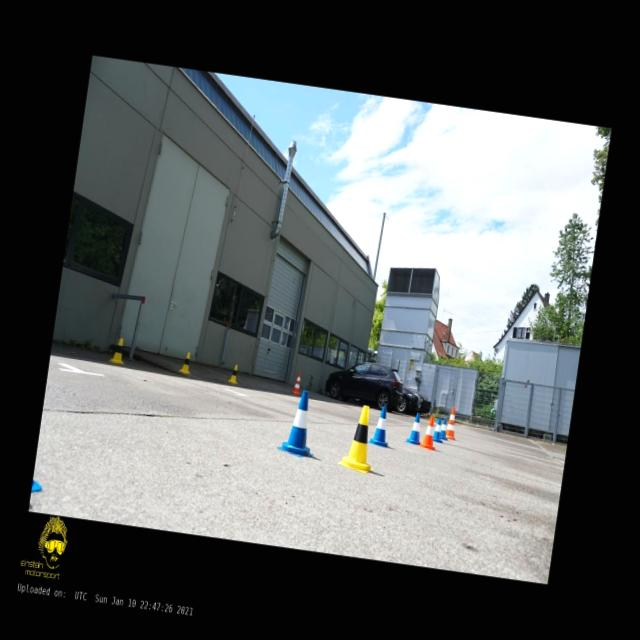blue_cone: (276, 388, 322, 458), (368, 405, 395, 448), (406, 412, 424, 446), (432, 416, 446, 443), (440, 418, 450, 440)
large_orange_cone: (444, 407, 460, 440), (290, 370, 304, 396)
orange_cone: (418, 414, 440, 450)
yellow_cone: (338, 402, 382, 473), (108, 336, 129, 364), (178, 350, 194, 376), (227, 364, 240, 384)
